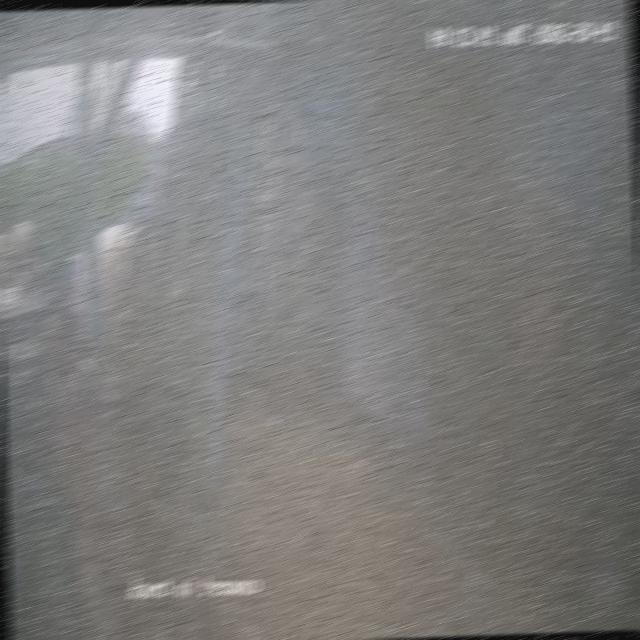cement_mixer_truck: (44, 213, 179, 406)
